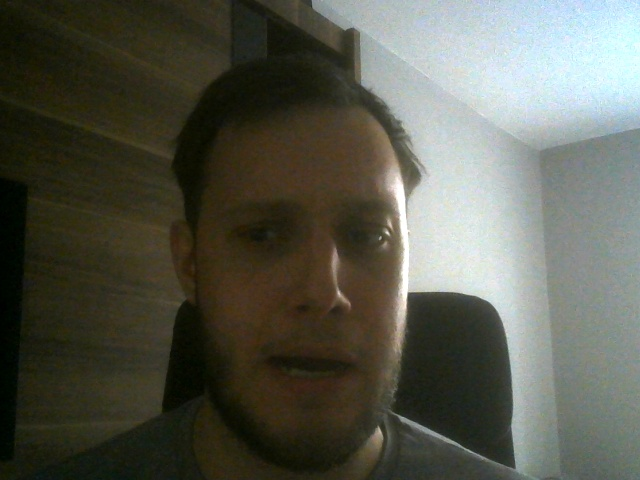angry: (167, 64, 411, 466)
